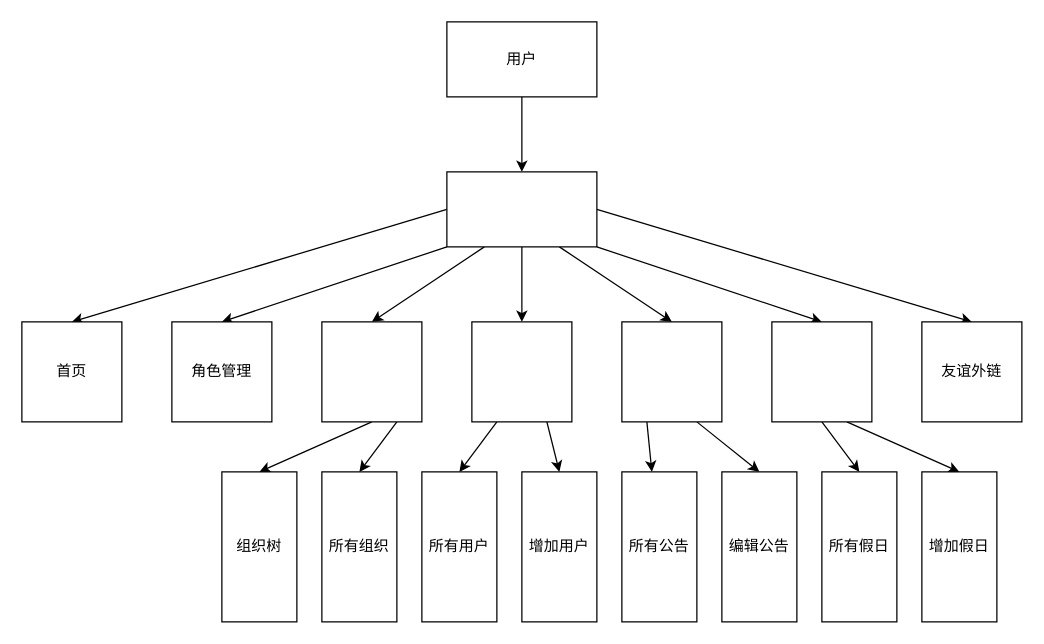
This 1044x644 diagram has some shape labels left out. The shapes that lost their labels are listed below. From the top down, each one's box as (x1, y1, x2, y2) in pixels, then its label:
(446, 171, 597, 247): 登录
(321, 321, 422, 422): 组织管理
(471, 321, 572, 422): 用户管理
(621, 321, 722, 422): 公告管理
(771, 321, 872, 422): 假日管理
